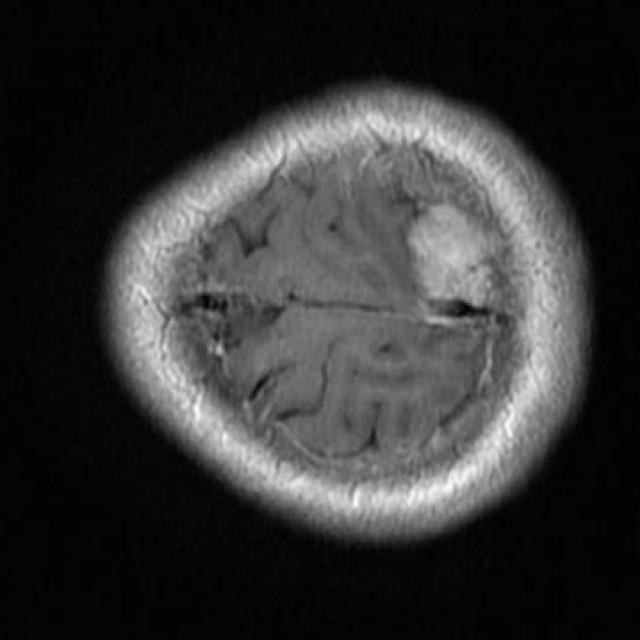meningioma: (410, 205, 492, 308)
